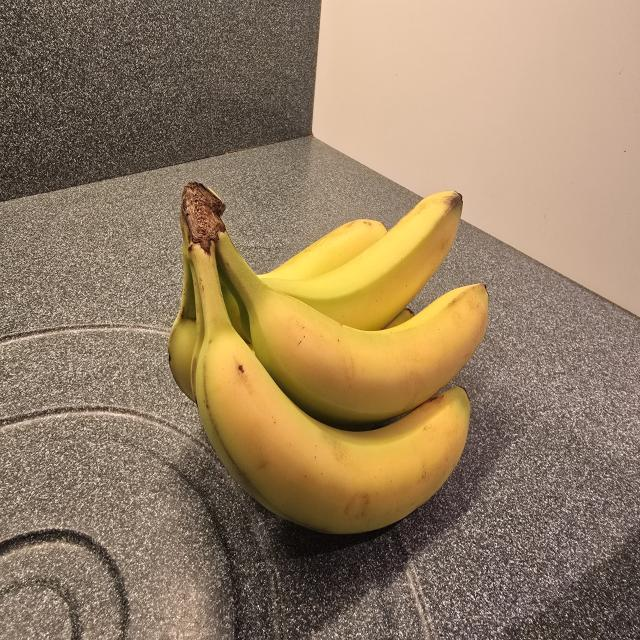Banana: (157, 174, 495, 549)
